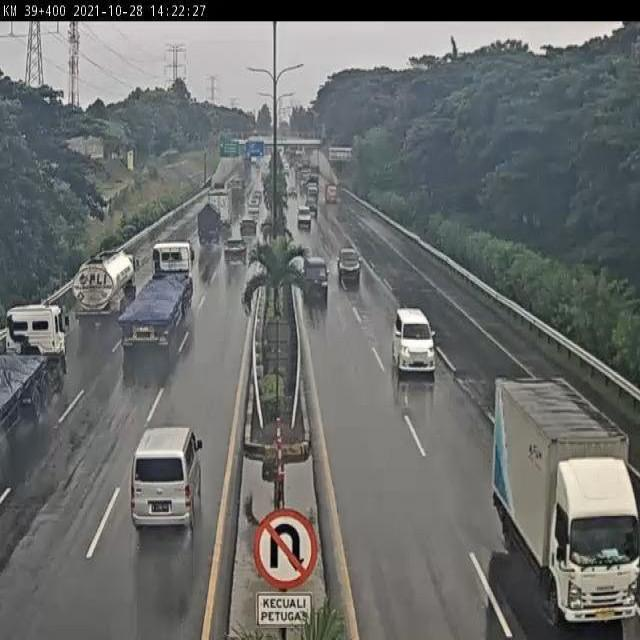bus-s-: (128, 426, 204, 530)
car: (393, 307, 435, 373), (300, 252, 330, 300), (337, 245, 363, 283)
small truck: (493, 374, 640, 640)
truck-l-: (205, 191, 232, 233)
truck-m-: (71, 251, 140, 321), (197, 203, 222, 248)
truck-xl-: (0, 300, 68, 436), (119, 237, 197, 351)
